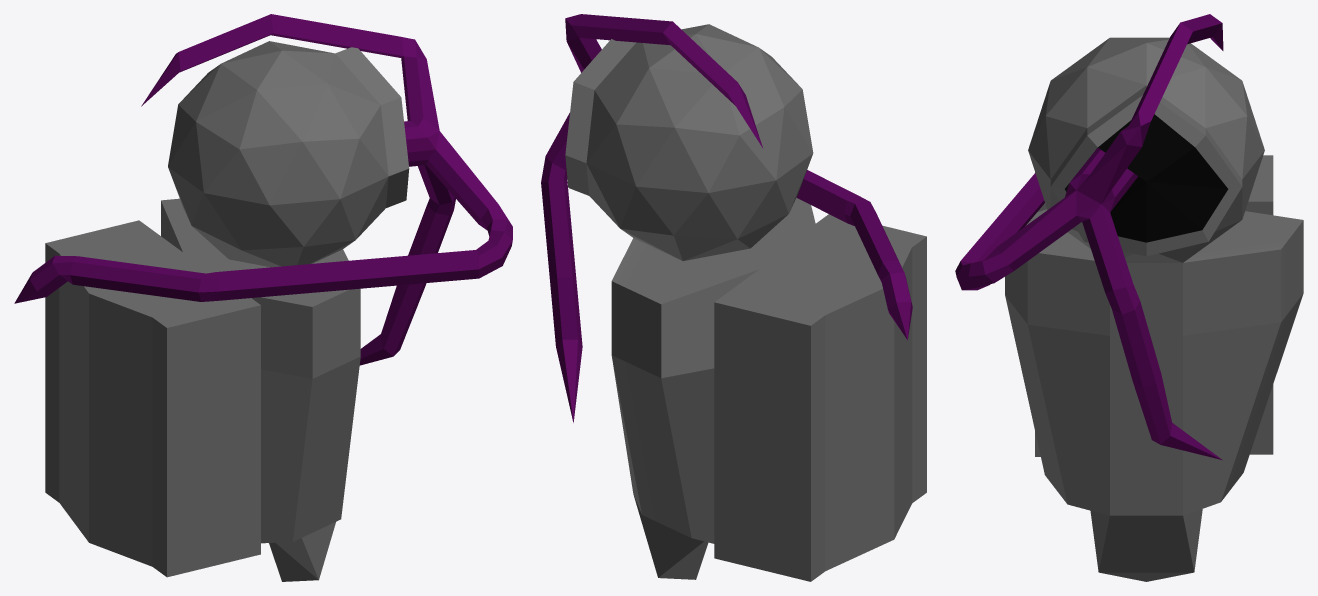
The model's file is dead_astronaut.glb.
3 renders of one model, left to right at view 1: azimuth 30°, elevation 25°; view 2: azimuth 150°, elevation 25°; view 3: azimuth 270°, elevation 25°, orthographic. The views are drawn at different scales.
Parts seen in each view (by area): view 1: Body, Tentacles; view 2: Body, Tentacles; view 3: Body, Tentacles.
Boxes of the visible parts, x1,y1,x2,y2 form: Body: (45,41,409,581); Tentacles: (14,14,512,365); Body: (565,24,926,581); Tentacles: (541,14,912,422); Body: (1005,37,1303,581); Tentacles: (955,14,1223,460).
Bounding box in the file's own units: 3.92 × 5.24 × 2.94.
Materials: 2 (2 with a texture image).
